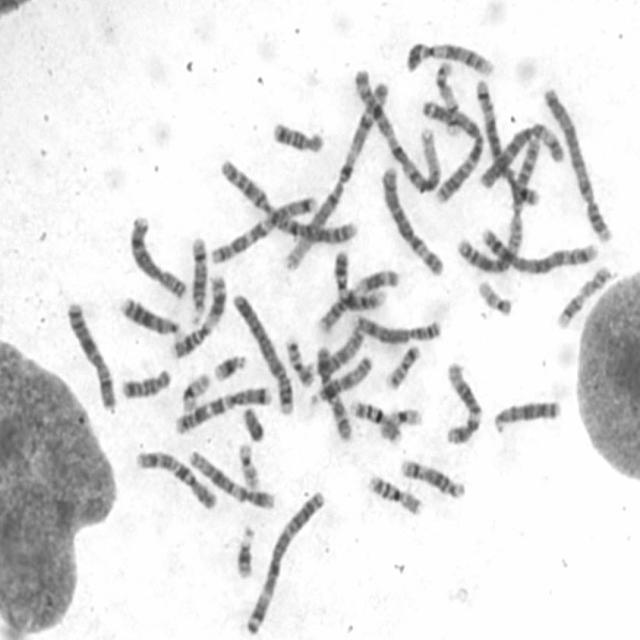A1: (282, 78, 392, 275), (355, 66, 444, 196)
A2: (217, 159, 360, 247), (455, 134, 541, 274)
A3: (242, 487, 327, 639), (420, 100, 485, 204)
B4: (544, 86, 616, 246), (231, 292, 297, 416)
B5: (474, 80, 542, 207), (480, 224, 600, 275)
C10: (133, 448, 220, 513), (313, 345, 354, 442)
C11: (316, 267, 399, 334), (171, 272, 228, 362)
C12: (186, 448, 278, 513), (444, 361, 484, 446)
C6: (378, 165, 446, 278), (477, 121, 566, 189)
C7: (210, 194, 318, 267), (174, 386, 275, 437)
C8: (128, 214, 188, 300), (351, 312, 443, 345)
C9: (332, 250, 388, 311), (405, 43, 497, 80)
D13: (492, 398, 563, 437), (117, 294, 181, 337)
D14: (400, 460, 468, 500), (188, 235, 208, 327)
D15: (309, 355, 372, 407), (308, 325, 364, 377)
E16: (348, 398, 403, 446), (368, 472, 425, 518)
E17: (554, 264, 613, 332), (432, 58, 462, 136)
E18: (273, 120, 327, 154), (120, 368, 172, 399)
F19: (379, 406, 422, 445), (179, 372, 210, 416)
F20: (386, 343, 422, 393), (285, 336, 316, 388)
G21: (233, 525, 256, 583), (212, 350, 247, 386)
G22: (474, 274, 517, 320), (238, 442, 261, 490)
X: (65, 300, 118, 410)
Y: (242, 406, 267, 444)
